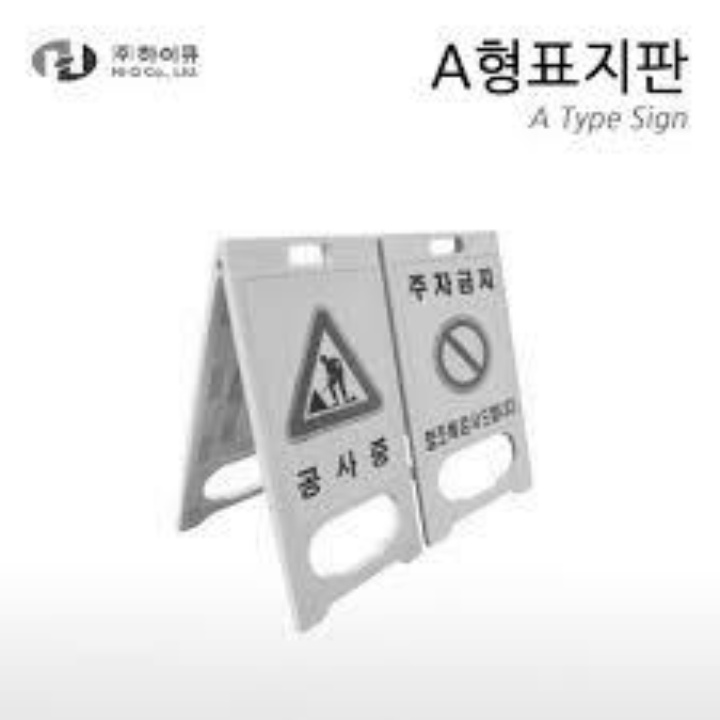const: (278, 313, 384, 429)
